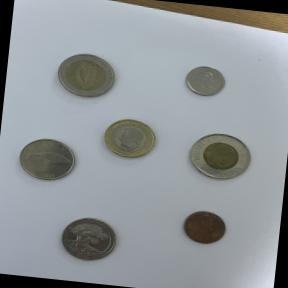coin: (178, 124, 260, 190), (47, 45, 125, 107), (52, 211, 123, 267), (13, 132, 83, 188), (94, 110, 162, 166), (176, 204, 234, 250), (177, 59, 233, 104)
